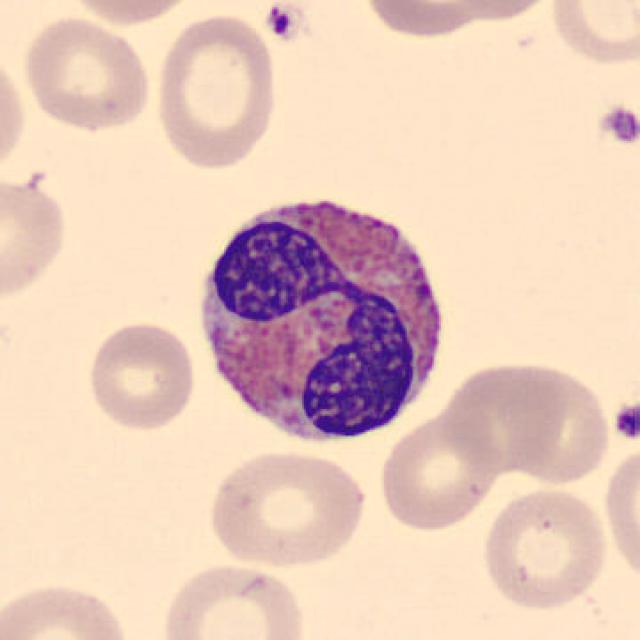Eosinophil: (185, 178, 457, 457)
Platelets: (596, 102, 638, 148), (263, 2, 302, 42), (608, 398, 640, 444)
RBC: (202, 444, 372, 572), (149, 11, 283, 172), (476, 483, 612, 614), (437, 356, 583, 476), (19, 12, 154, 134), (375, 409, 505, 532), (498, 358, 613, 488), (84, 317, 199, 434), (157, 557, 311, 640), (0, 170, 73, 304), (0, 576, 133, 640), (544, 0, 638, 71), (359, 0, 507, 41), (599, 441, 640, 589), (0, 48, 30, 185), (59, 0, 204, 28), (442, 0, 562, 23)
